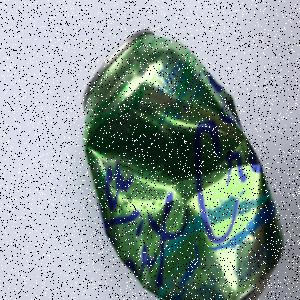Can: (82, 29, 286, 300)
